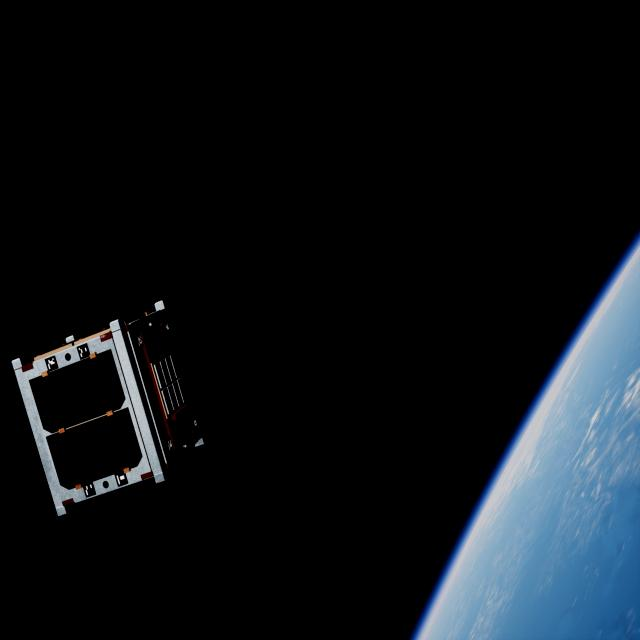satellite: (6, 292, 213, 510)
